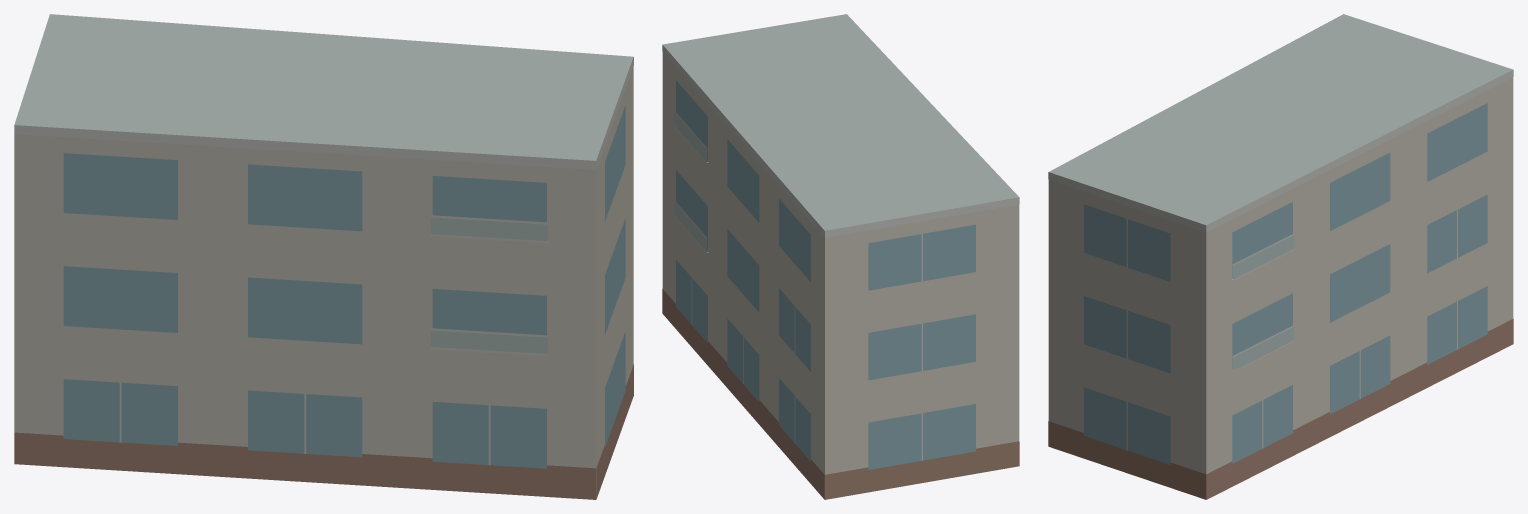
Rendered from survey-upis-32559080.glb.
3 views of the same model, side by side, from view 1: azimuth 30°, elevation 25°; view 2: azimuth 150°, elevation 25°; view 3: azimuth 270°, elevation 25° (orthographic). The views are drawn at different scales.
Visible parts, largest first — view 1: survey-upis-32559080.tmp; view 2: survey-upis-32559080.tmp; view 3: survey-upis-32559080.tmp.
Part boxes in pixels (box(x1,y1,x2,y2)): survey-upis-32559080.tmp: box(14, 14, 633, 499); survey-upis-32559080.tmp: box(662, 14, 1019, 499); survey-upis-32559080.tmp: box(1048, 14, 1513, 499).
Bounding box in the file's own units: 15.11 × 9.15 × 14.05.
